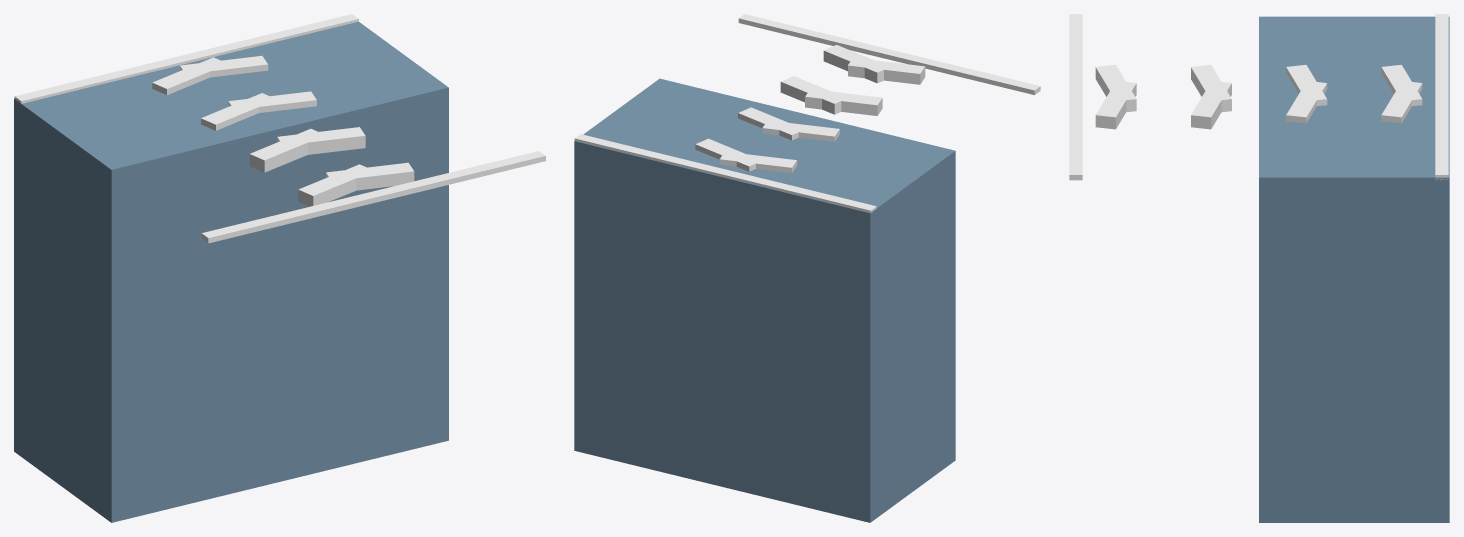
The model's file is OnOffConveyorB_VerticalSlab.glb.
The picture shows the model from 3 angles, left to right: view 1: azimuth 30°, elevation 25°; view 2: azimuth 150°, elevation 25°; view 3: azimuth 270°, elevation 25°; orthographic projection. The views are drawn at different scales.
Parts seen in each view (by area): view 1: OnOffConveyorB_VerticalSlab_body, rail_-0.018, rail_0.018, chev_1_1.018, chev_0_1.018, chev_0_-1.018, chev_1_-1.018, chev_3_-1.018, chev_2_1.018, chev_3_1.018, chev_2_-1.018; view 2: OnOffConveyorB_VerticalSlab_body, rail_-0.018, rail_0.018, chev_1_1.018, chev_0_1.018, chev_0_-1.018, chev_3_1.018, chev_2_1.018, chev_1_-1.018, chev_3_-1.018, chev_2_-1.018; view 3: OnOffConveyorB_VerticalSlab_body, rail_-0.018, rail_0.018, chev_0_-1.018, chev_1_-1.018, chev_0_1.018, chev_1_1.018, chev_2_-1.018, chev_3_-1.018, chev_3_1.018, chev_2_1.018.
Boxes of the visible parts, box(x1,y1,x2,y2) form: OnOffConveyorB_VerticalSlab_body: box(14, 21, 448, 522); rail_-0.018: box(201, 151, 545, 243); rail_0.018: box(14, 14, 358, 103); chev_1_1.018: box(249, 128, 325, 172); chev_0_1.018: box(298, 164, 373, 206); chev_0_-1.018: box(326, 162, 414, 190); chev_1_-1.018: box(277, 127, 365, 154); chev_3_-1.018: box(180, 55, 268, 77); chev_2_1.018: box(201, 93, 276, 130); chev_3_1.018: box(152, 57, 226, 94); chev_2_-1.018: box(228, 91, 316, 112); OnOffConveyorB_VerticalSlab_body: box(574, 78, 955, 522); rail_-0.018: box(738, 14, 1040, 94); rail_0.018: box(574, 134, 876, 212); chev_1_1.018: box(805, 89, 882, 115); chev_0_1.018: box(848, 58, 925, 84); chev_0_-1.018: box(823, 45, 883, 83); chev_3_1.018: box(719, 152, 797, 173); chev_2_1.018: box(762, 121, 839, 141); chev_1_-1.018: box(780, 76, 846, 114); chev_3_-1.018: box(695, 138, 760, 171); chev_2_-1.018: box(738, 107, 804, 140); OnOffConveyorB_VerticalSlab_body: box(1259, 16, 1449, 522); rail_-0.018: box(1069, 14, 1082, 180); rail_0.018: box(1435, 14, 1448, 180); chev_0_-1.018: box(1095, 81, 1136, 129); chev_1_-1.018: box(1191, 81, 1231, 129); chev_0_1.018: box(1095, 64, 1136, 112); chev_1_1.018: box(1191, 64, 1231, 112); chev_2_-1.018: box(1286, 81, 1327, 123); chev_3_-1.018: box(1381, 81, 1422, 123); chev_3_1.018: box(1381, 64, 1422, 106); chev_2_1.018: box(1286, 65, 1327, 106).
Bounding box in the file's own units: 1 × 1.02 × 0.9975.
